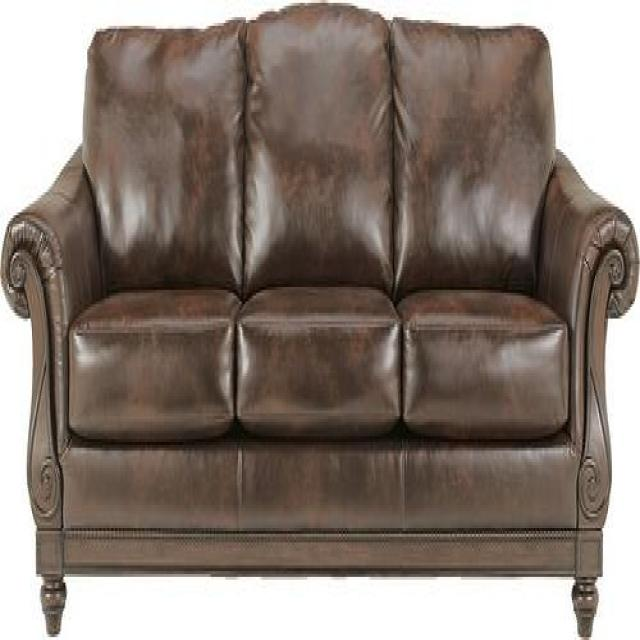sofa: (1, 0, 640, 640)
